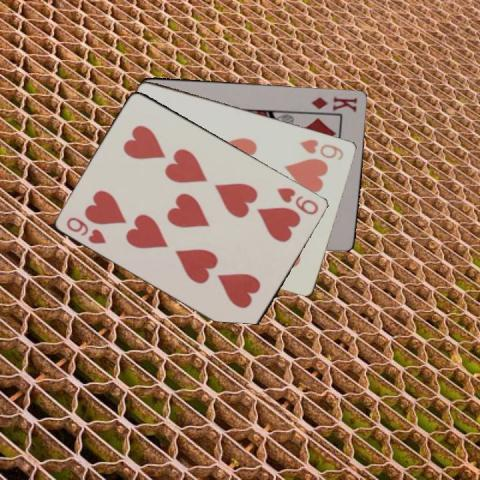6h: (298, 136, 346, 161)
9h: (274, 184, 320, 217), (63, 214, 109, 246)
Kd: (308, 94, 359, 114)
